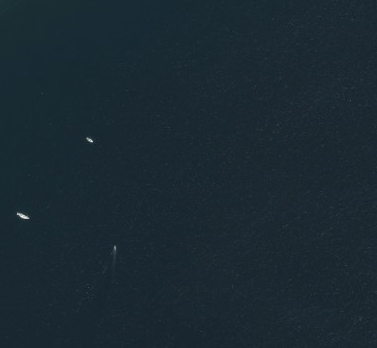ship: (15, 212, 32, 221), (84, 135, 95, 145)
